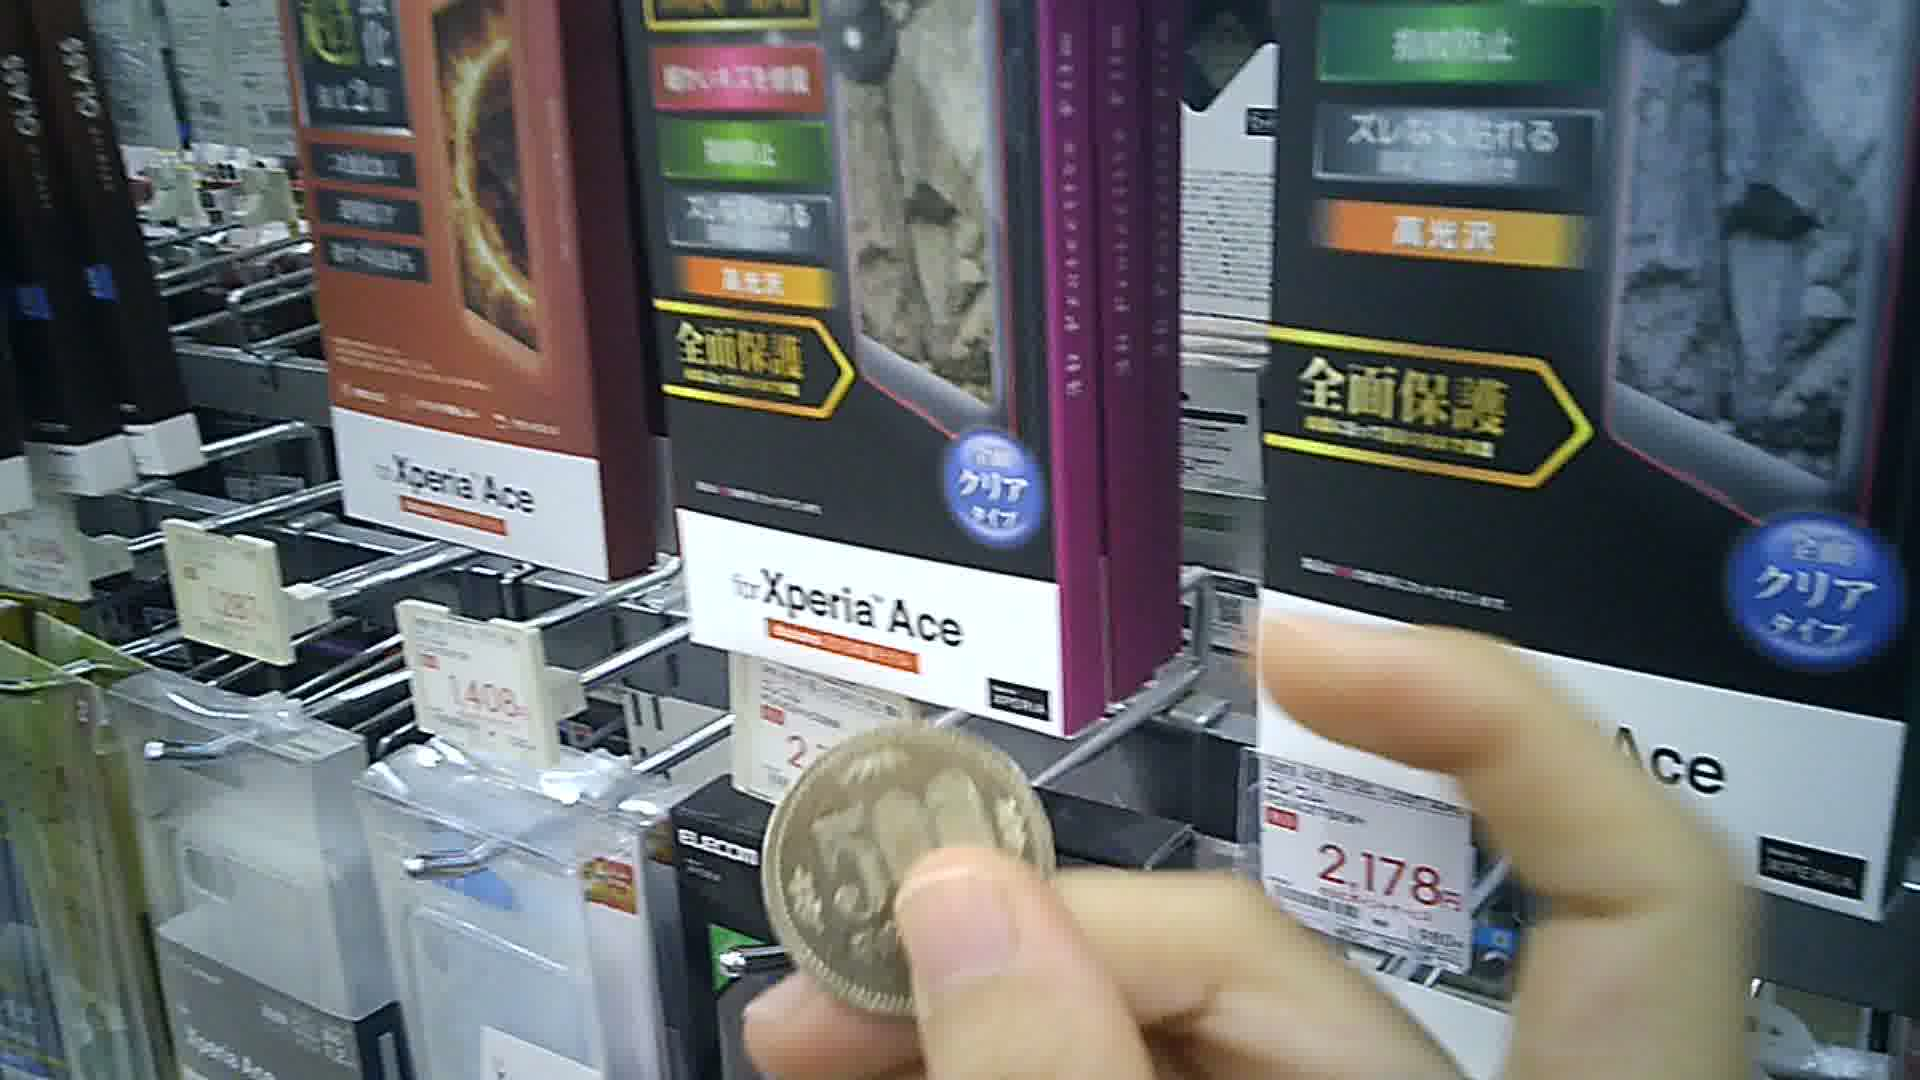500 Yen: (756, 720, 1065, 1015)
